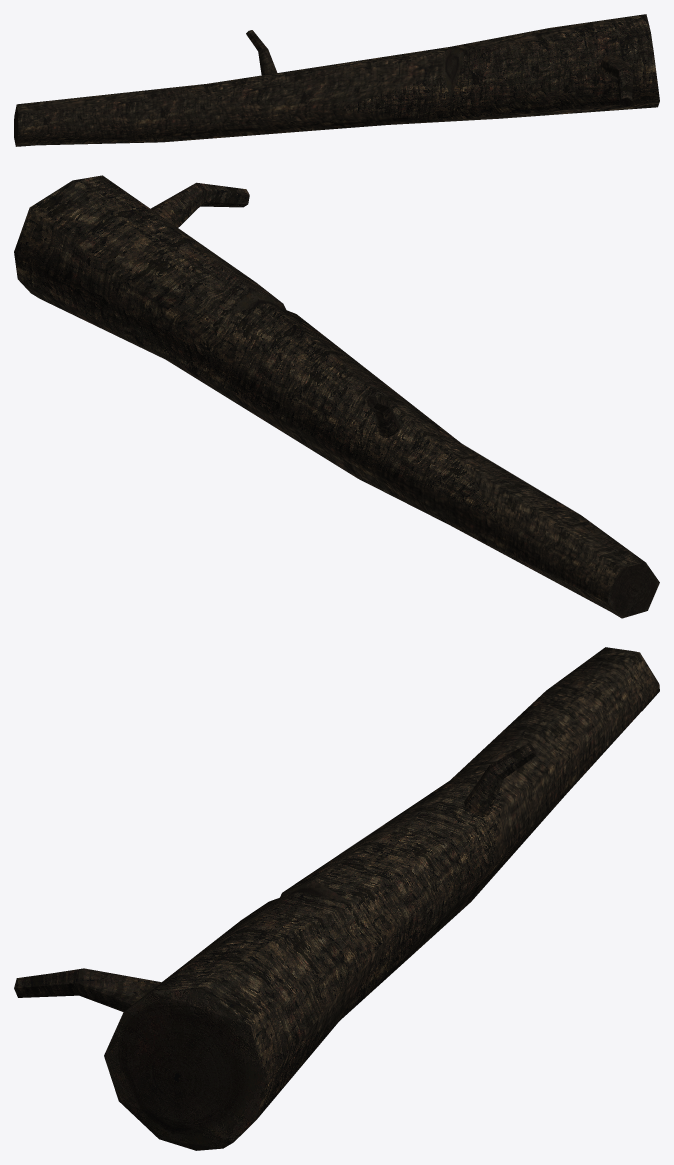
Rendered from tree_log_1.glb.
3 views of the same model, one above another, from view 1: azimuth 30°, elevation 25°; view 2: azimuth 150°, elevation 25°; view 3: azimuth 270°, elevation 25° (orthographic). The views are drawn at different scales.
Parts seen in each view (by area): view 1: tree_log_1; view 2: tree_log_1; view 3: tree_log_1.
Part boxes in pixels (x1,y1,x2,y2): tree_log_1: (14, 14, 659, 146); tree_log_1: (14, 175, 659, 618); tree_log_1: (14, 647, 659, 1150).
Bounding box in the file's own units: 3.3 × 0.5574 × 1.93.
2 materials, 2 textured.
